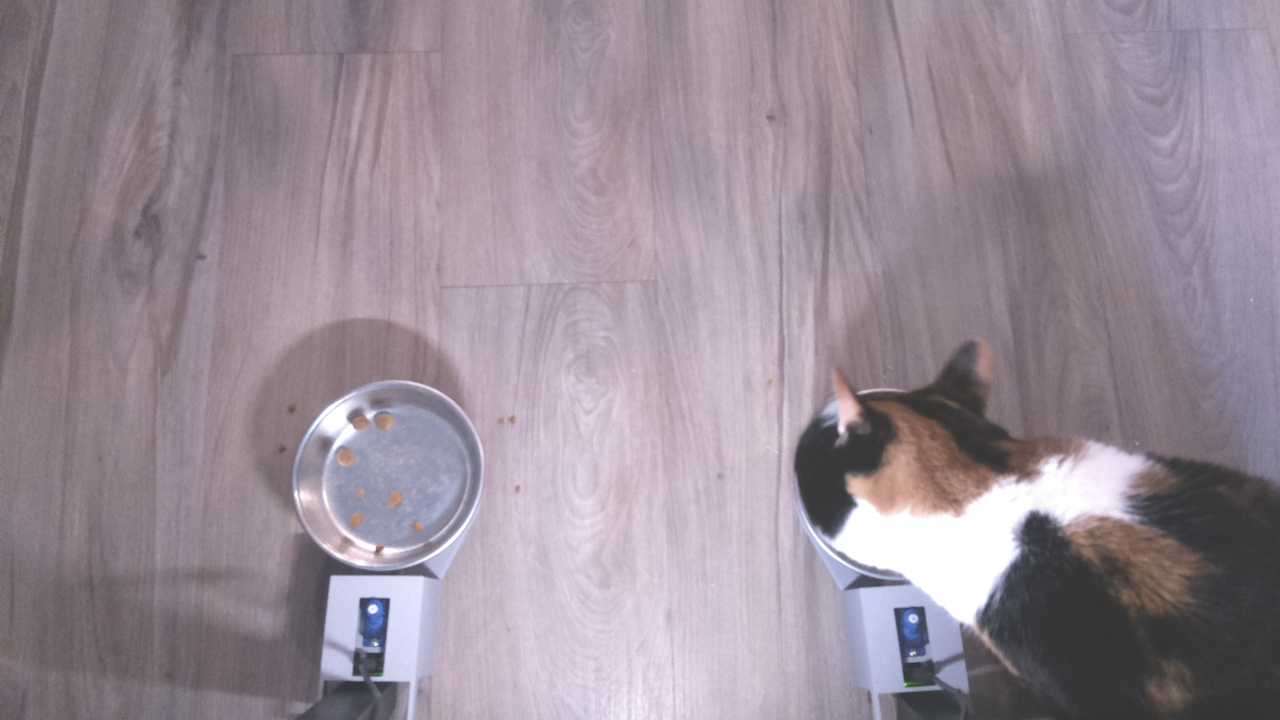bella_eating: (779, 329, 1079, 603)
open_bowl: (288, 377, 491, 578)
